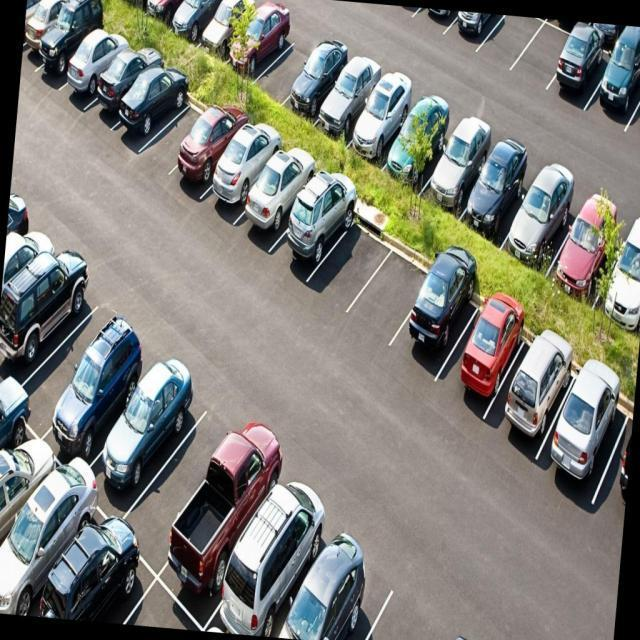car: (161, 411, 303, 634), (218, 472, 352, 640), (99, 336, 210, 512), (53, 303, 156, 475), (2, 234, 105, 398), (0, 471, 111, 622), (19, 510, 154, 626), (272, 522, 396, 640), (495, 310, 578, 462), (547, 349, 623, 510), (400, 240, 486, 380), (200, 109, 290, 242), (268, 172, 366, 290), (0, 212, 79, 358), (448, 280, 524, 419), (0, 432, 58, 606), (238, 141, 318, 264), (83, 31, 164, 148), (58, 17, 141, 131), (504, 146, 574, 279), (553, 171, 619, 311), (461, 126, 532, 255), (169, 94, 250, 204), (380, 81, 454, 199), (113, 55, 187, 168), (31, 0, 114, 98), (352, 65, 416, 178), (418, 102, 480, 217), (586, 23, 640, 148), (318, 45, 381, 152), (288, 29, 354, 131), (224, 0, 292, 98), (548, 19, 616, 114), (594, 394, 634, 551), (20, 0, 89, 86), (600, 208, 640, 351), (0, 381, 31, 552), (0, 181, 39, 316), (198, 0, 264, 71), (452, 11, 509, 64), (173, 0, 238, 40), (20, 0, 55, 72), (144, 0, 208, 29), (418, 8, 480, 32), (117, 0, 179, 22), (551, 19, 603, 43), (630, 37, 640, 152)
free: (128, 367, 252, 568), (29, 275, 123, 430), (344, 234, 426, 364), (308, 206, 388, 332), (140, 80, 212, 191), (92, 578, 208, 630), (258, 21, 320, 115), (508, 15, 572, 94), (476, 13, 536, 84)
